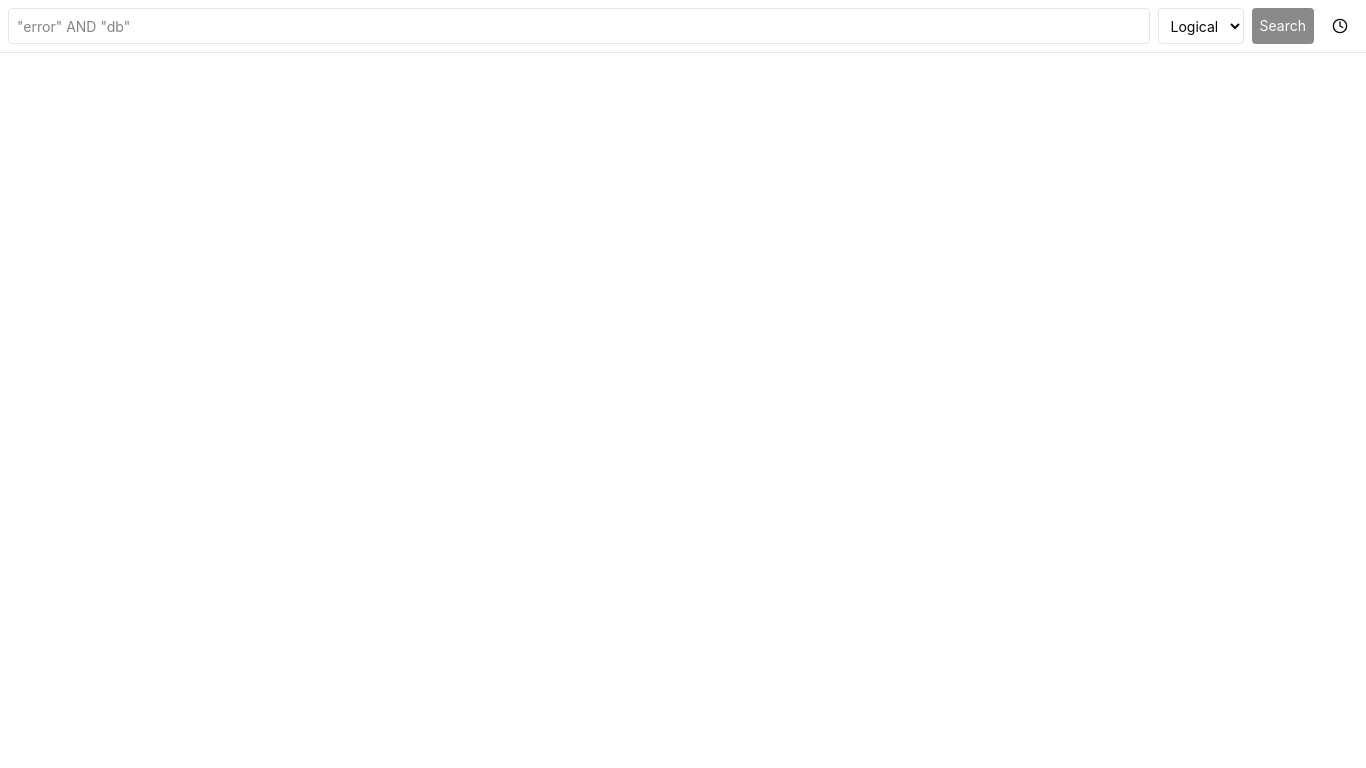
SearchBar › search history › selecting a history overlay entry applies the entry and immediately re-runs the search (FR-018)
Click the button named "search history".
click(1340, 26)  # box [1322,8,1358,44]
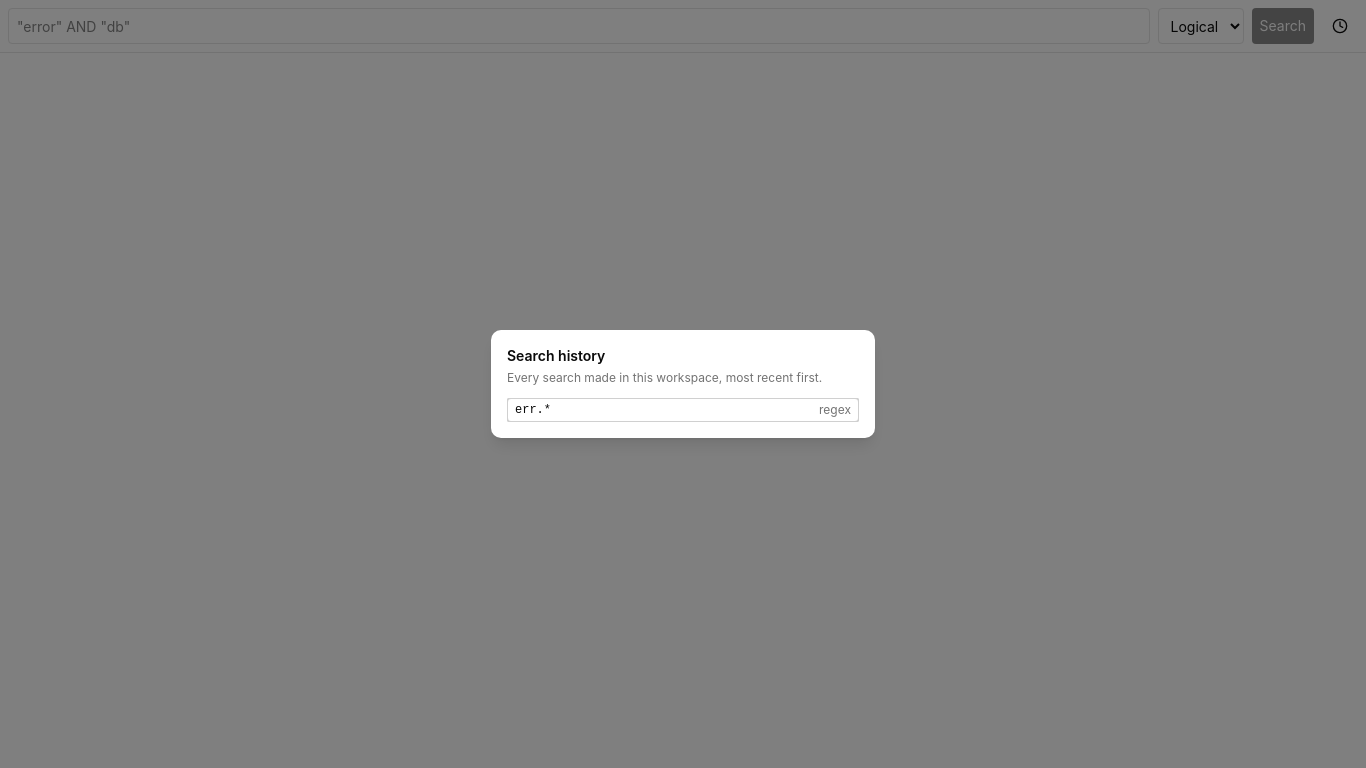
Click the option "err.* regex".
click(533, 410)  # box [507,398,859,422]
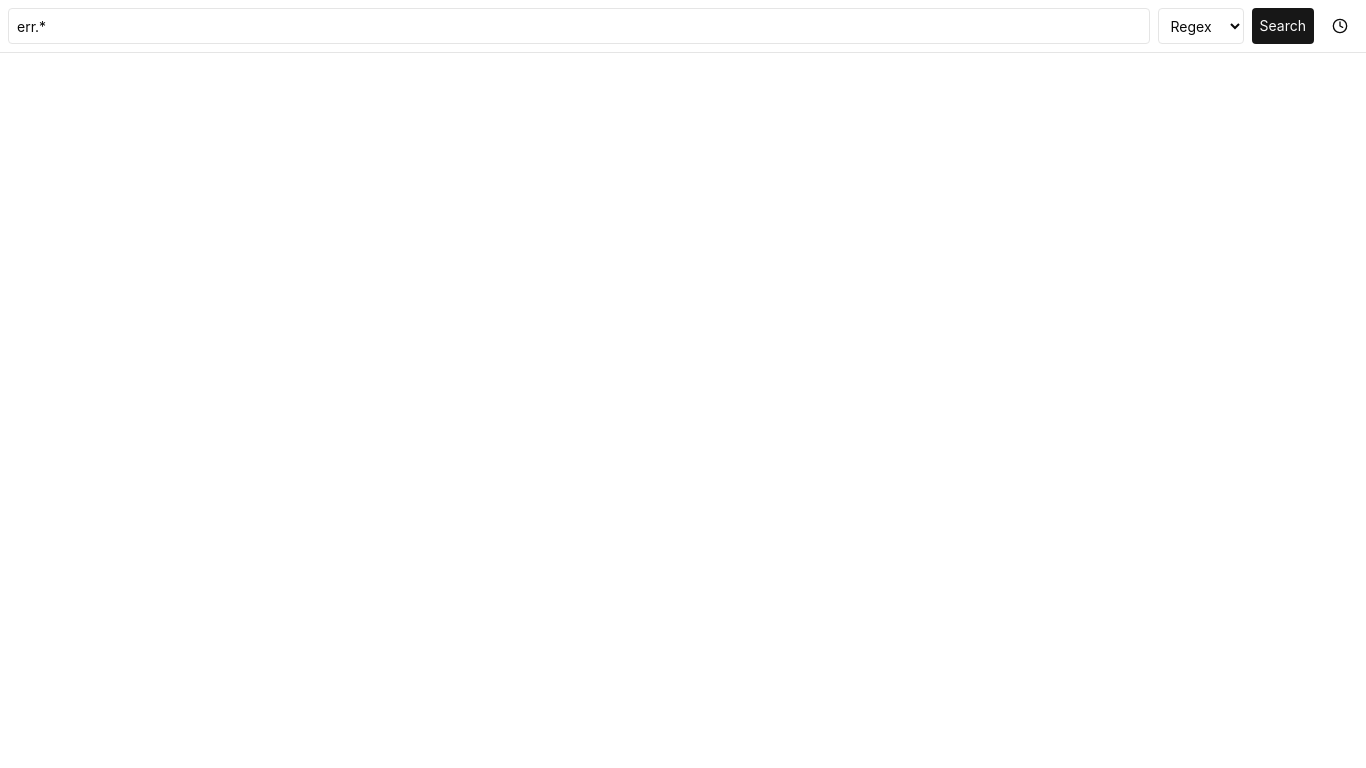
expect the dropdown named "Search query" holds "err.*": met, box [8,8,1150,44]
